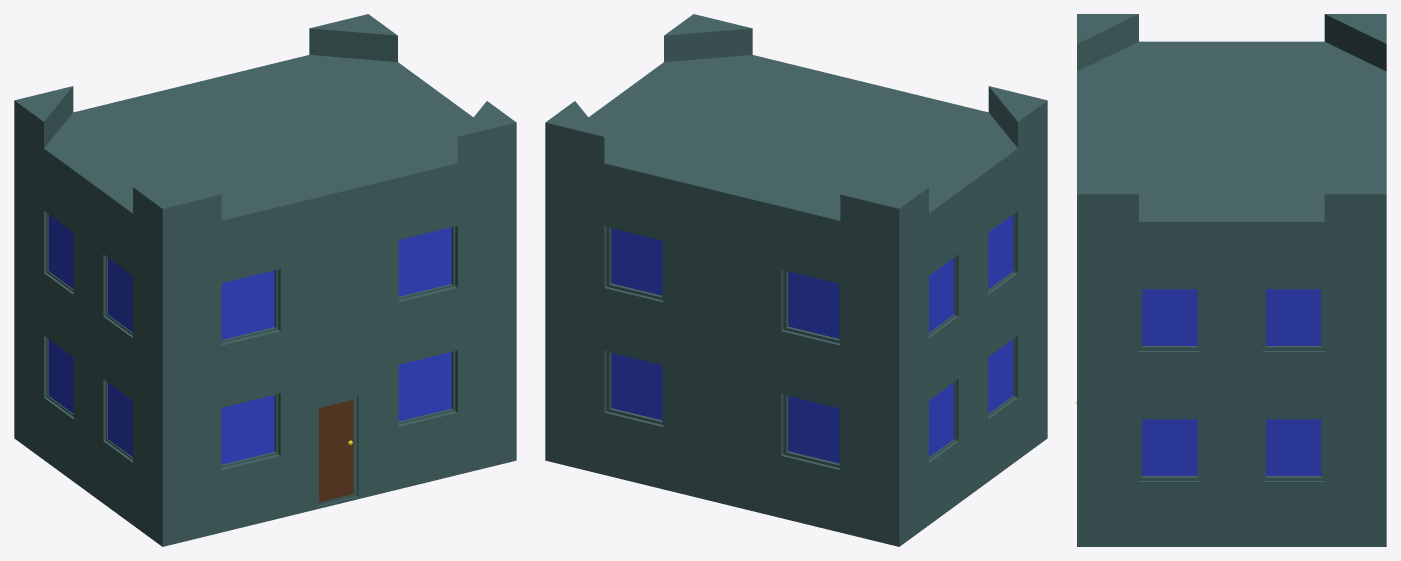
Rendered from House3.fbx.
The picture shows the model from 3 angles, left to right: view 1: azimuth 30°, elevation 25°; view 2: azimuth 150°, elevation 25°; view 3: azimuth 270°, elevation 25°; orthographic projection. The views are drawn at different scales.
Visible parts, largest first — view 1: House1; view 2: House1; view 3: House1.
Part boxes in pixels (bbox=[...]): House1: bbox=[14, 14, 516, 546]; House1: bbox=[545, 14, 1047, 546]; House1: bbox=[1076, 14, 1386, 546].
Size of the model in its own units: 2853 by 2604 by 2074.
